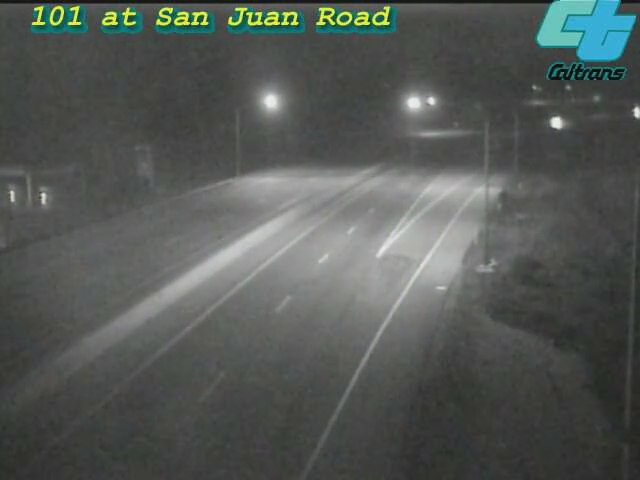vehicle: (530, 98, 580, 148), (611, 88, 640, 138)
